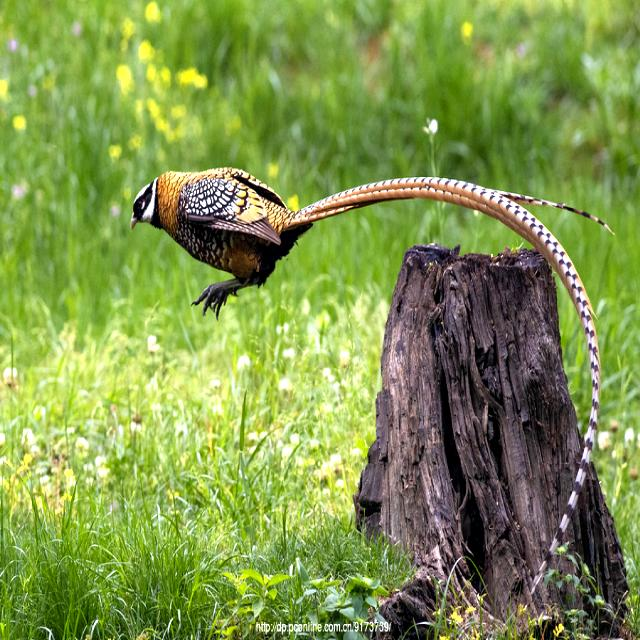Reeves-s Pheasant: (287, 175, 616, 592)
